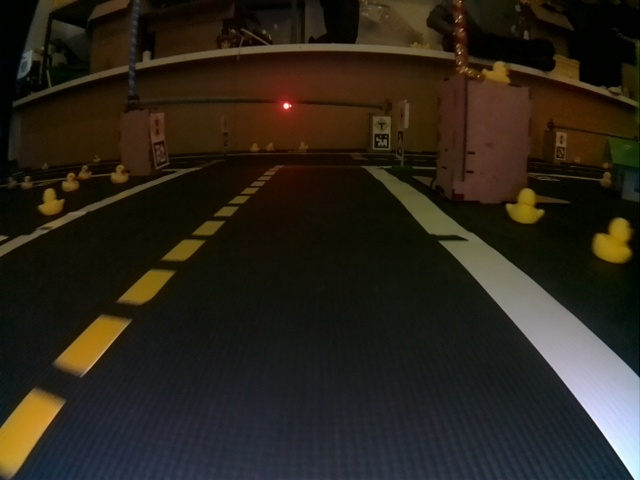Duckie: (593, 218, 633, 263), (505, 188, 544, 224), (38, 188, 65, 215), (482, 62, 511, 82), (111, 166, 129, 184), (62, 173, 79, 192), (78, 165, 92, 180), (21, 176, 33, 188), (265, 142, 275, 151), (7, 178, 16, 188), (299, 142, 308, 151), (249, 143, 257, 151)
Intersection sign: (373, 117, 388, 131)
QR code: (154, 142, 169, 167), (373, 133, 390, 150), (397, 131, 406, 154), (556, 146, 566, 157)
Signal sign: (150, 114, 164, 138)
Traffic light: (281, 102, 292, 111)
